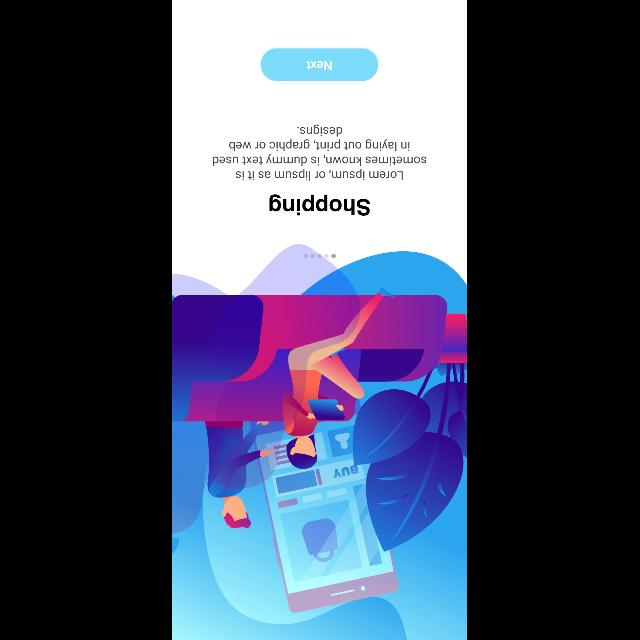image: (172, 244, 468, 640)
pageindicator: (304, 254, 336, 258)
text: (213, 124, 427, 180), (270, 194, 370, 216)
textbutton: (262, 48, 378, 82)
